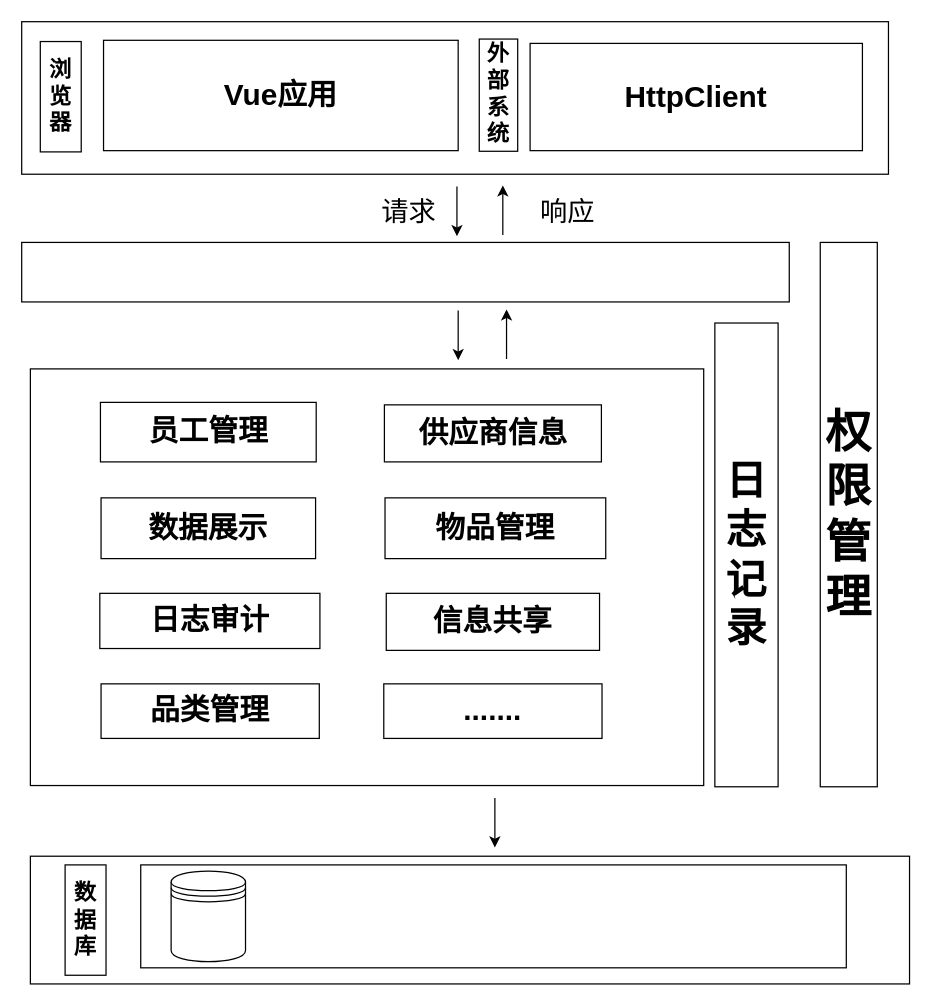
Image size: 931x1006. Some labels were removed from this diagram. The shapes that lost their labels are listed below. From the top down, each one's centre as x and y in pixels, then its label:
At (404,271): "Http".
At (208,916): "MYSQL".
